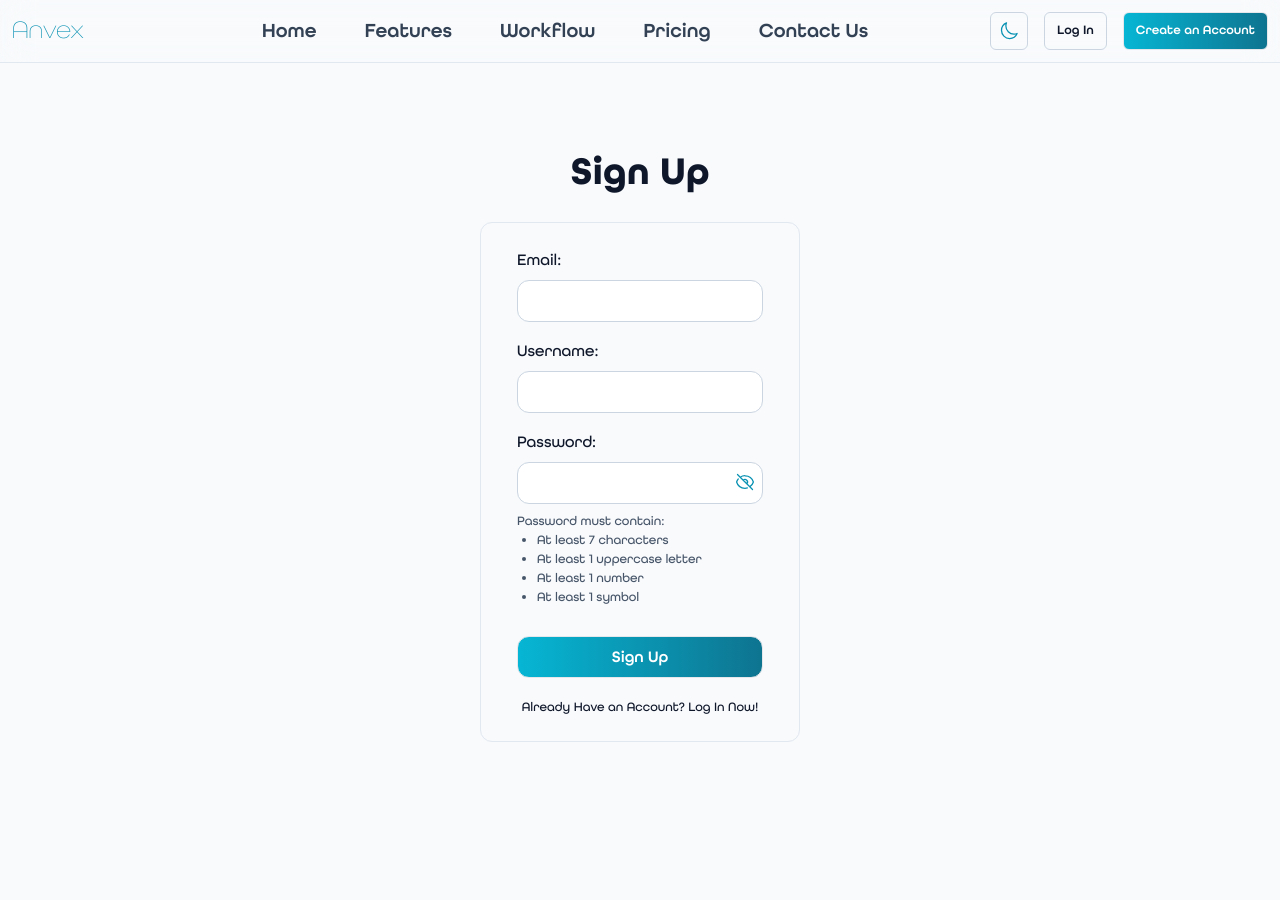
validation › refuses an empty submit, names all three fields, and never reaches the network
Expected: the element with test id "route-sign-up" is shown, top-left (480, 148), bottom-right (800, 742)
Click the button "Sign Up" at (640, 656), box top-left (517, 636), bottom-right (763, 678)
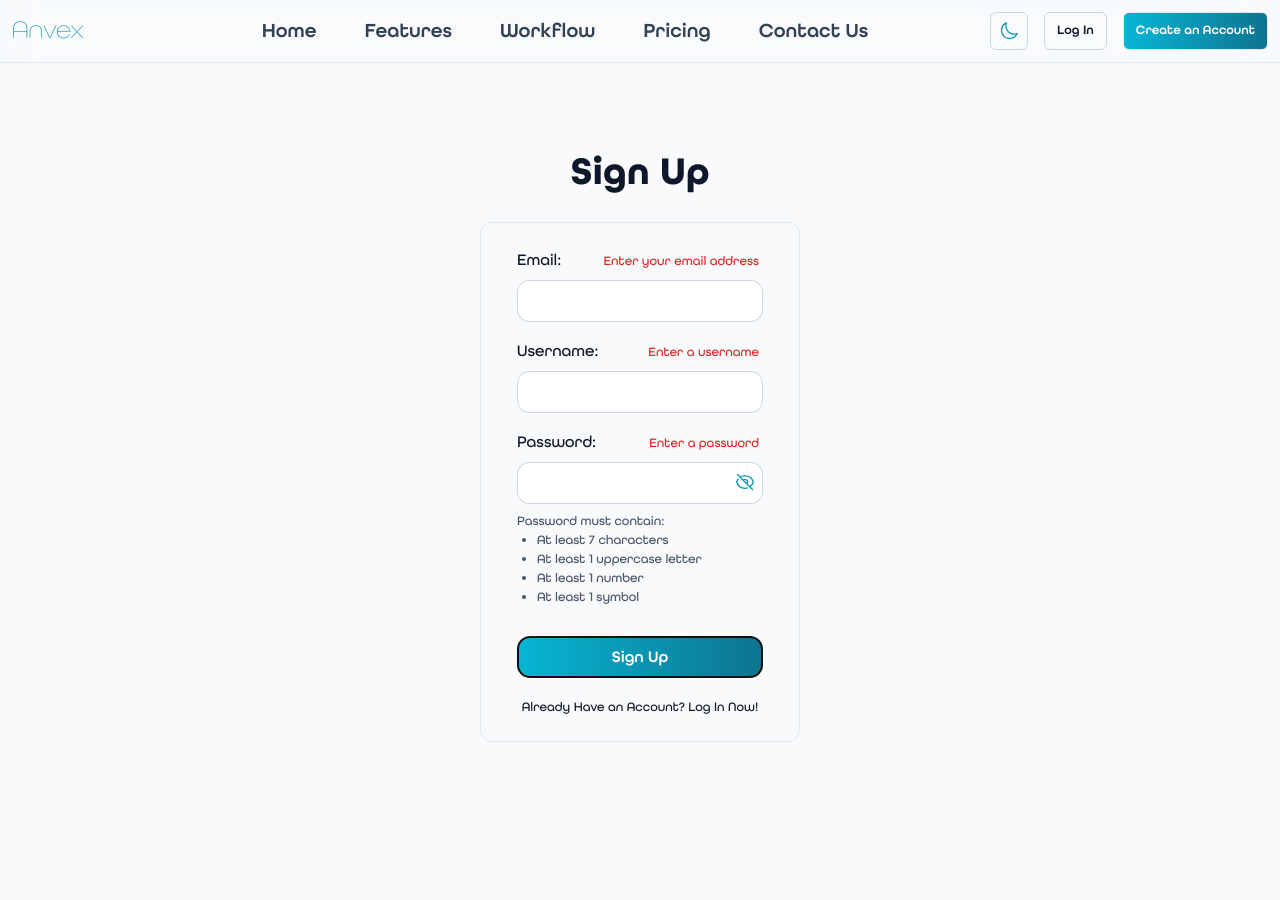
Result: the message with test id "signup-email-error" reads "Enter your email address" at top-left (604, 253), bottom-right (759, 269)
Result: the message with test id "signup-username-error" reads "Enter a username" at top-left (648, 344), bottom-right (759, 360)
Result: the message with test id "signup-password-error" reads "Enter a password" at top-left (649, 435), bottom-right (759, 451)
